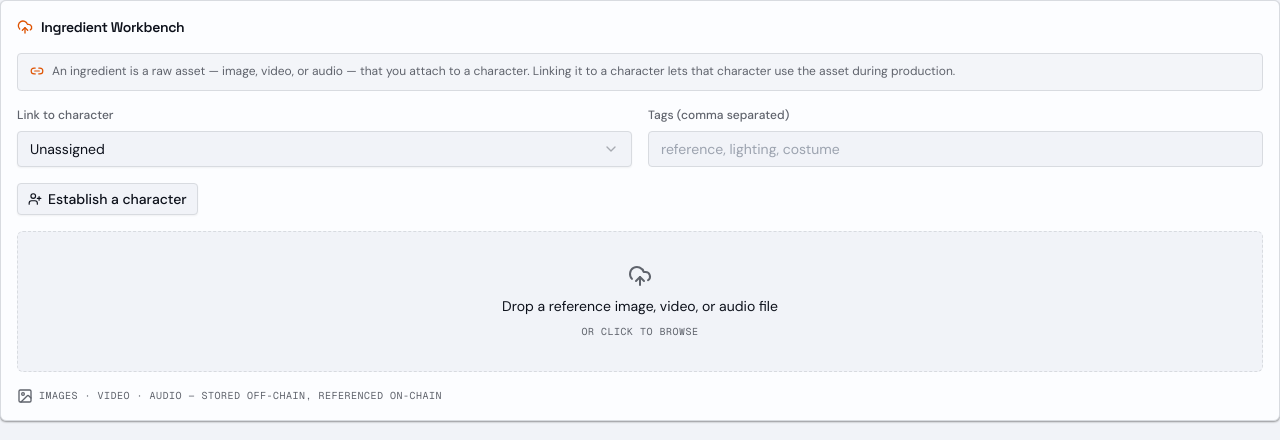
Test: IngredientWorkbench › renders the workbench and lists existing characters in the link select
The image size is (1280, 440).
Expected: the heading "Ingredient Workbench" is shown, [41,17,184,37]
Click the dropdown with test id "feed.workbench.select": (67, 148) [17,130,632,166]
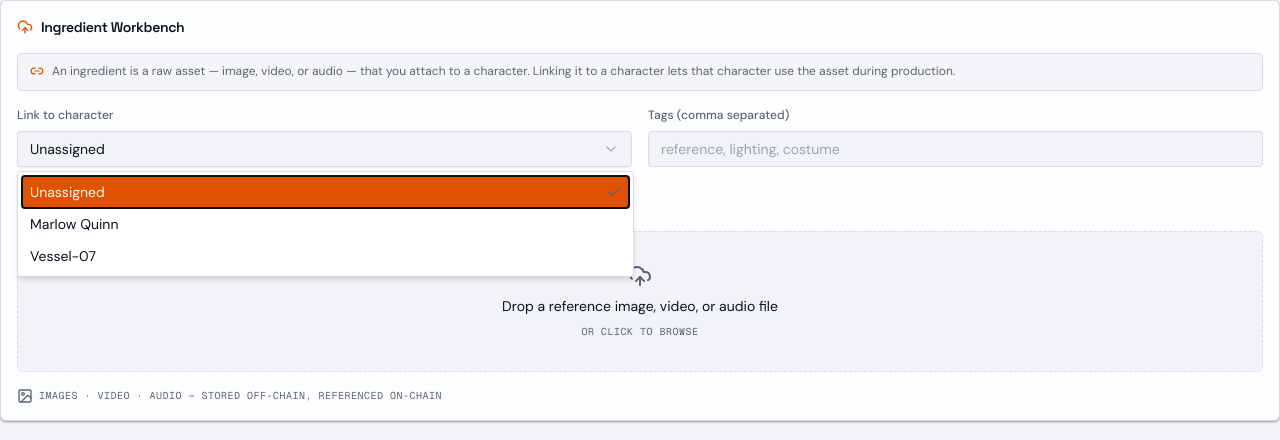
Now the option "Marlow Quinn" is shown, box [30,215,118,233]
Now the option "Vessel-07" is shown, box [30,247,96,265]
Now the option "Unassigned" is shown, box [22,176,629,208]
